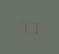seven: (19, 19, 28, 33), (29, 20, 38, 34)
